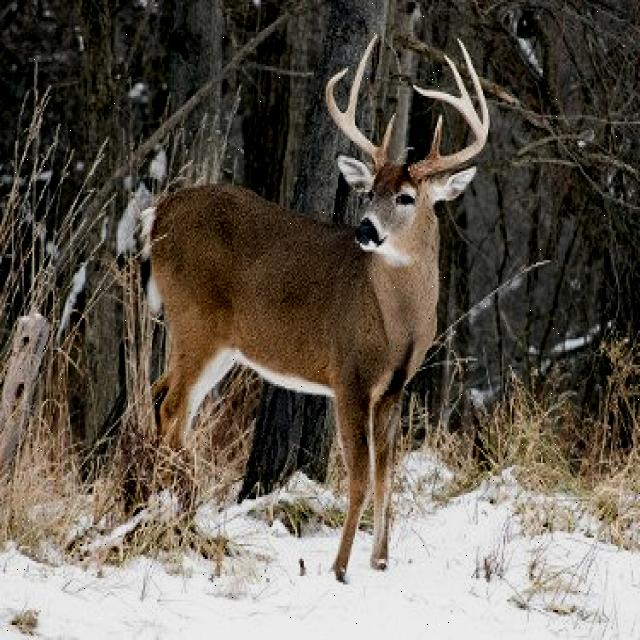deer: (314, 36, 494, 290)
